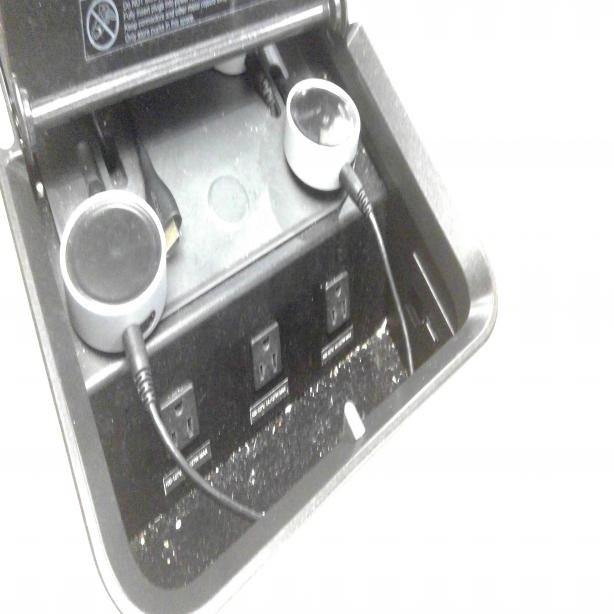typeb: (250, 326, 283, 383), (162, 398, 196, 445), (328, 281, 349, 323)
